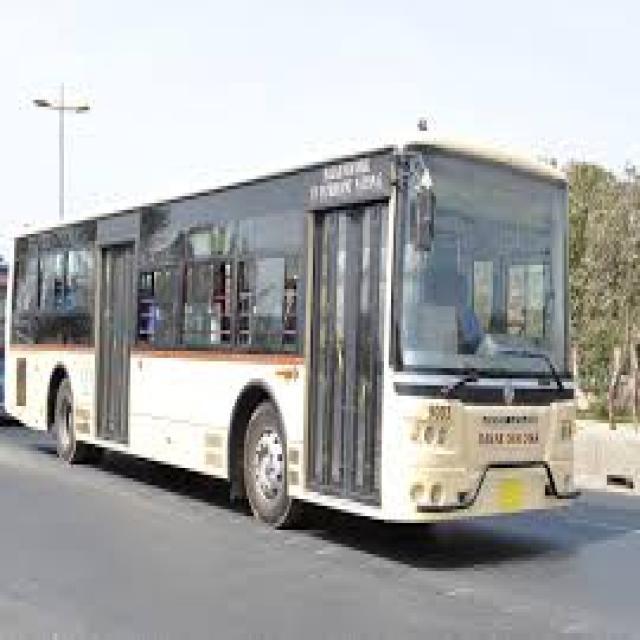bus dem dikk: (7, 144, 575, 527)
